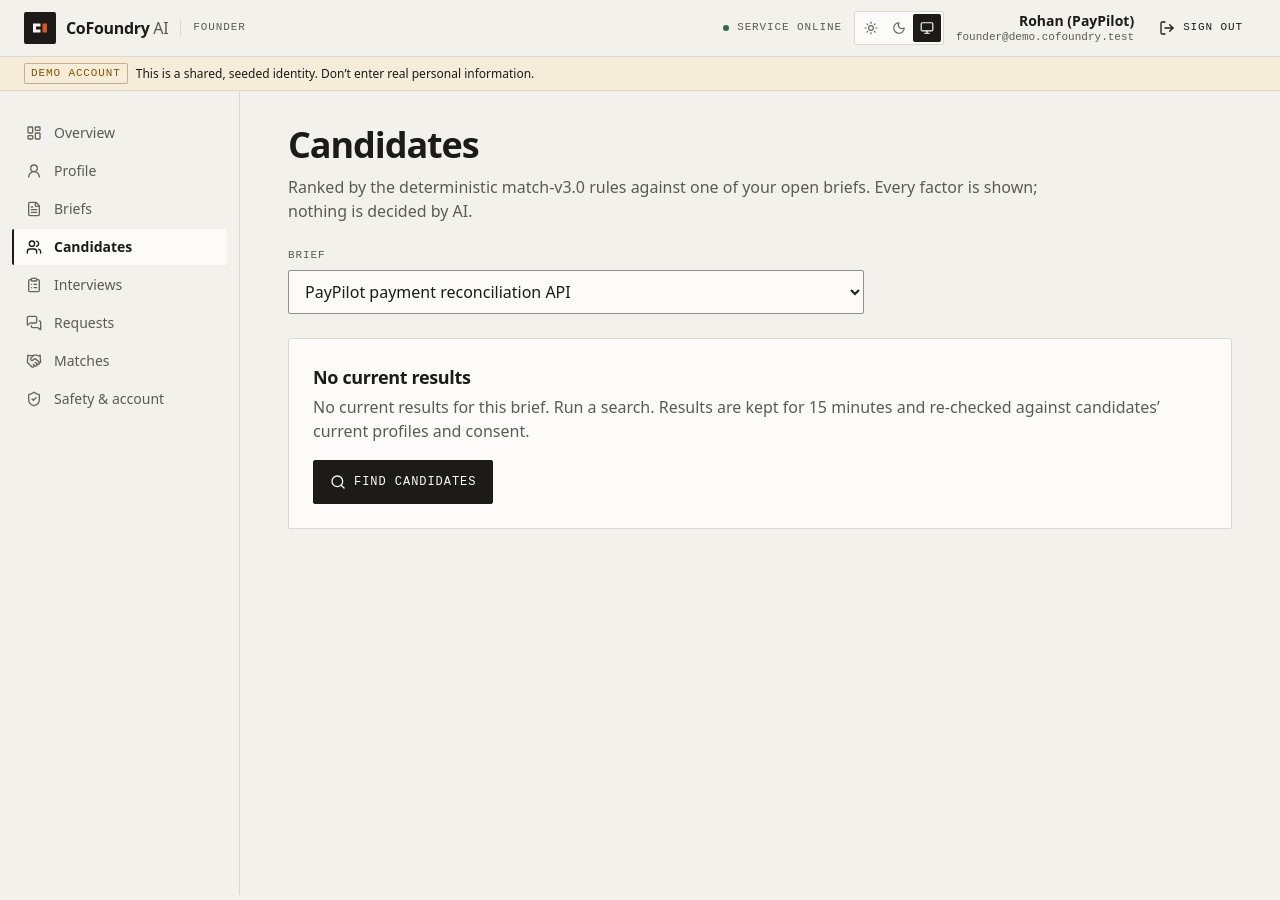
Test: founder recommendations dashboard › runs a server search with an Idempotency-Key and renders the three separate groups
Expected: the heading "No current results" is shown, left=313, top=365, right=470, bottom=389
Expected: the text "No current results for this brief" is shown, left=313, top=396, right=654, bottom=418
Click the button "Find candidates" at (403, 482), box left=313, top=460, right=493, bottom=504
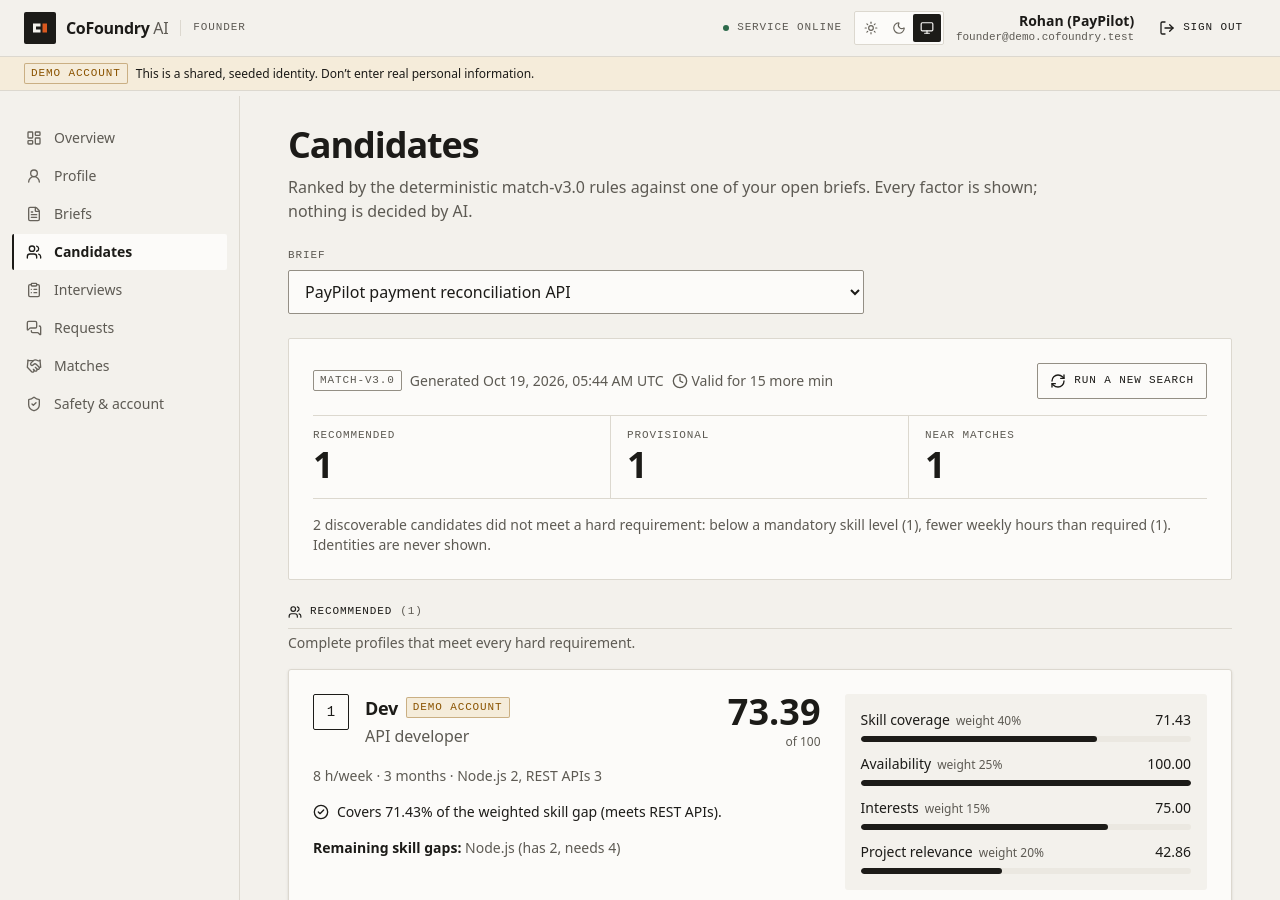
Expected: the heading "Dev" is shown, left=365, top=694, right=398, bottom=722
Expected: the text "73.39" is shown, left=728, top=694, right=820, bottom=730
Expected: the text "2 discoverable candidates did not meet a hard requirement" shows "below a mandatory skill level (1), fewer weekly hours than required (1)", left=313, top=515, right=1171, bottom=554
